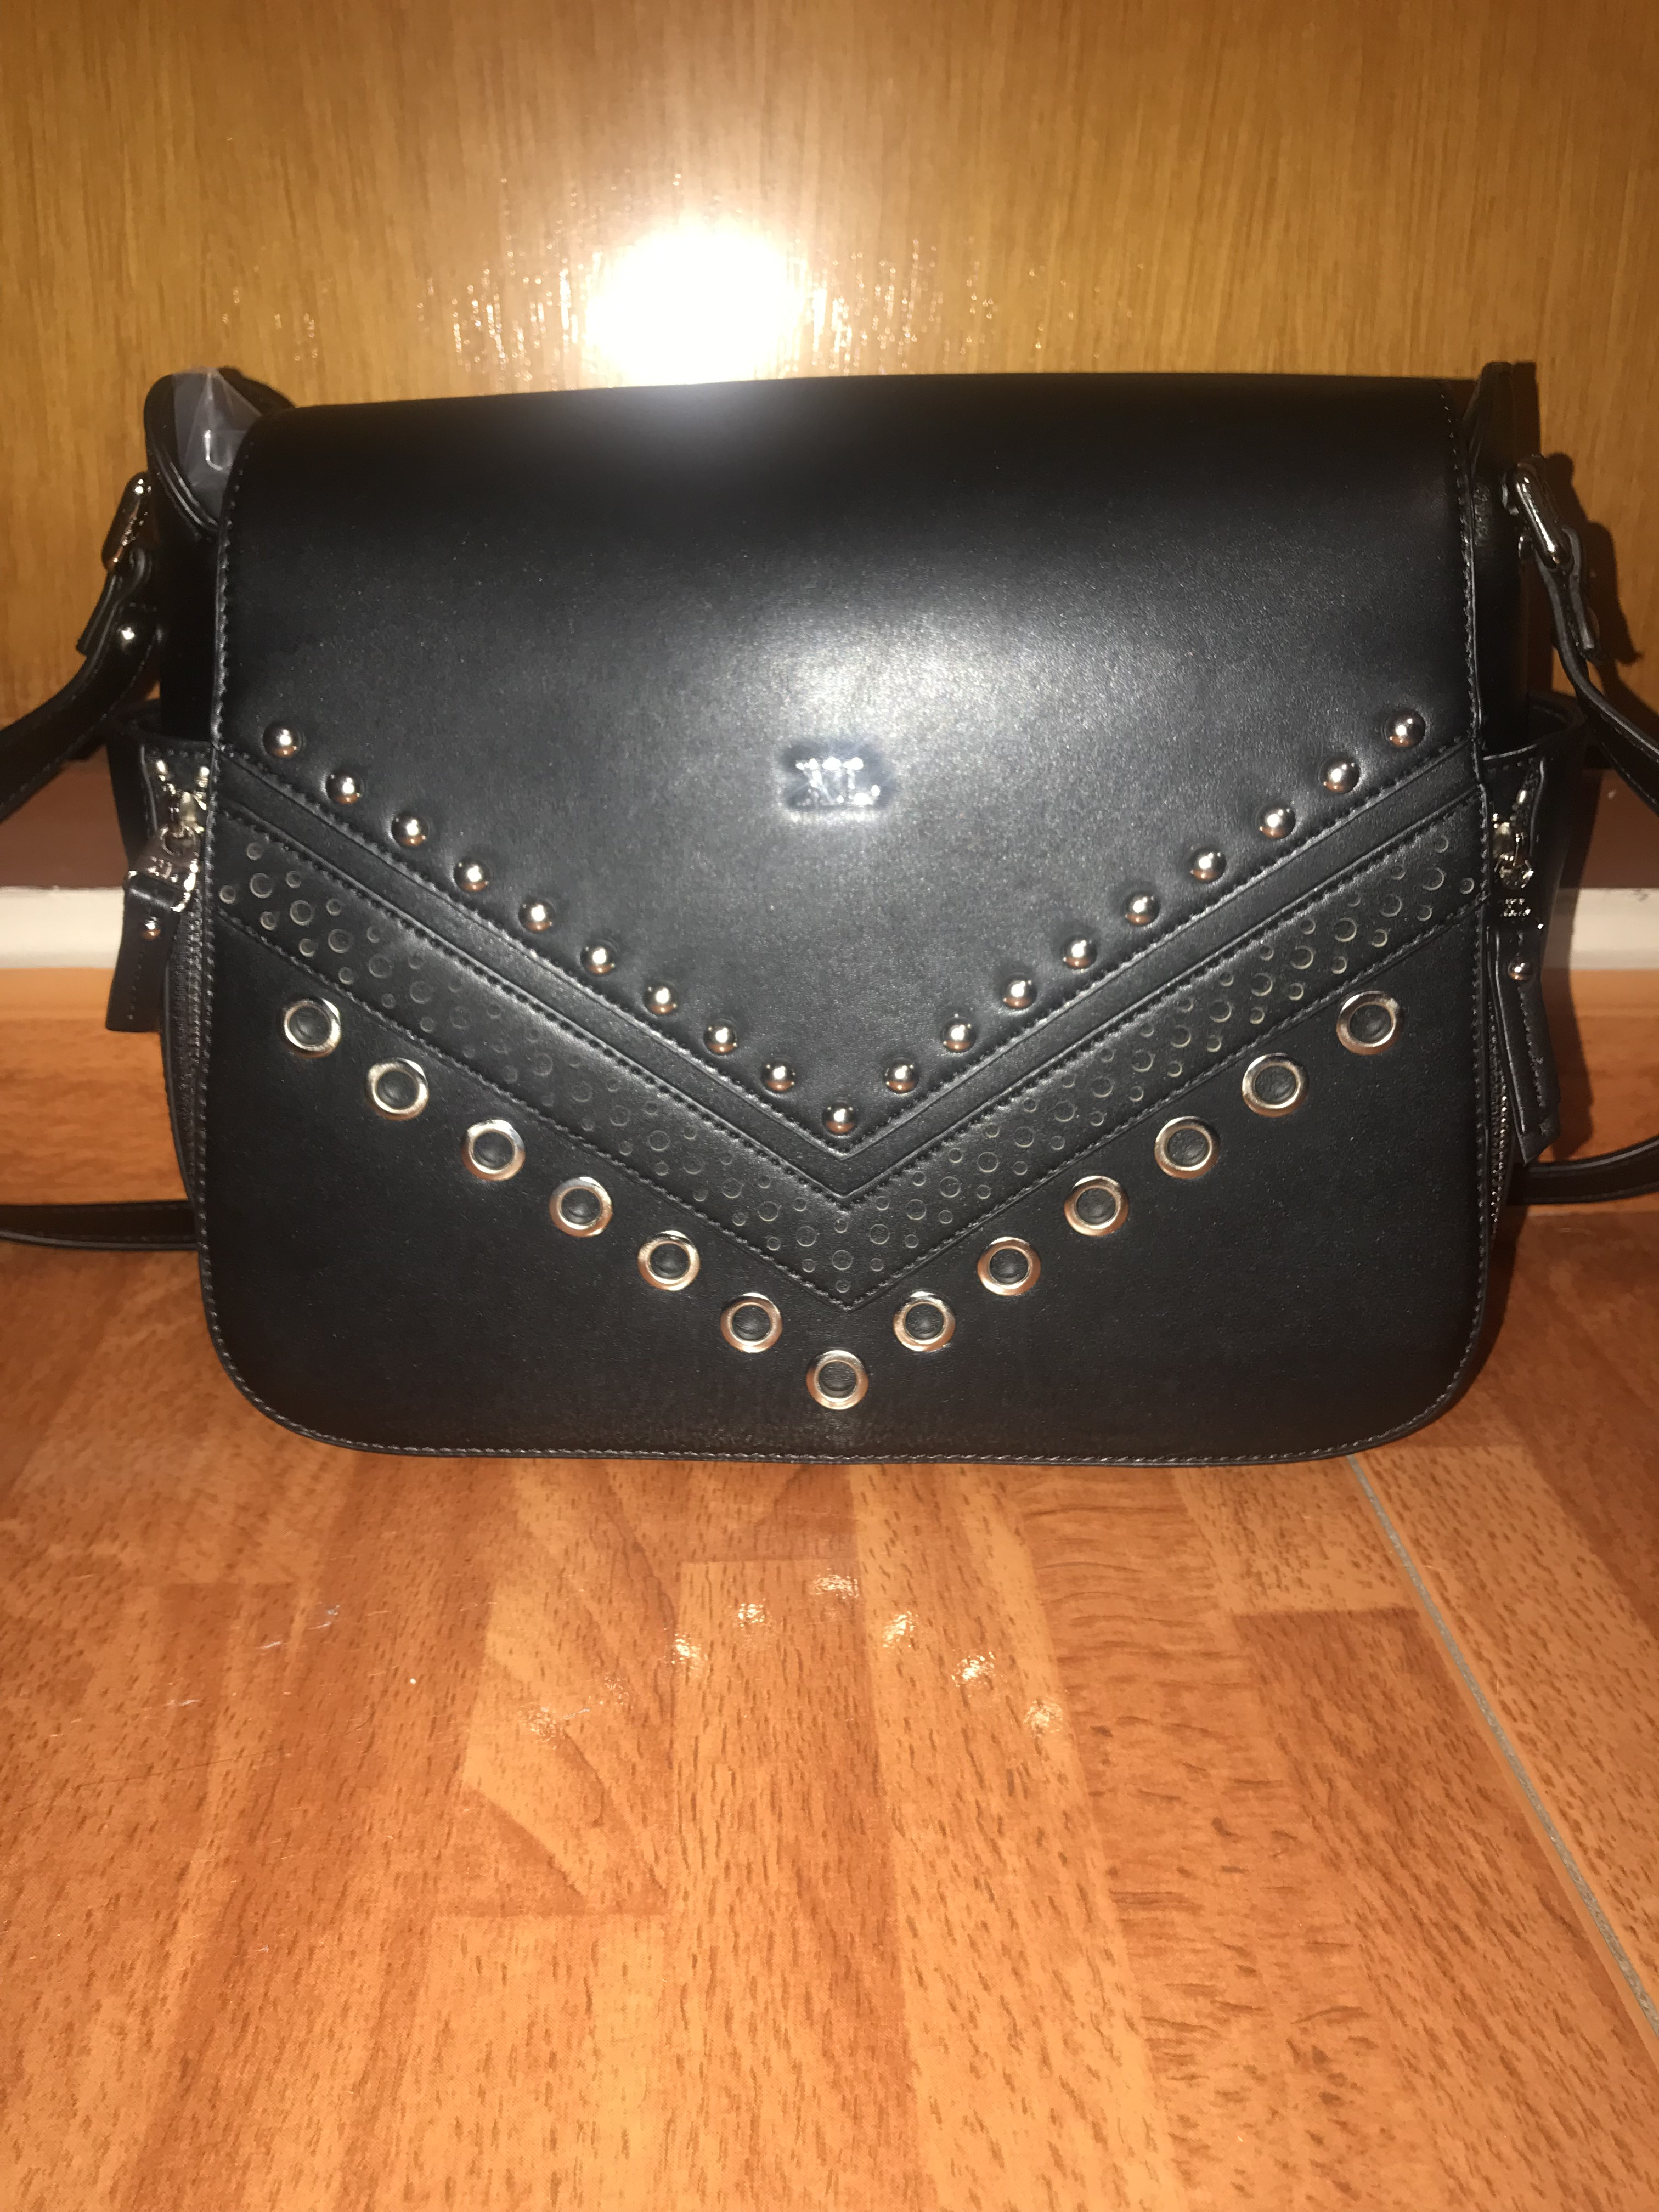cartera: (40, 343, 1647, 1482)
cuero: (988, 491, 1279, 754)
